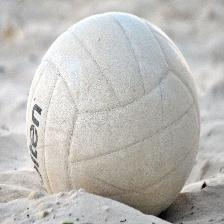Sports-Ball: (25, 13, 198, 215)
